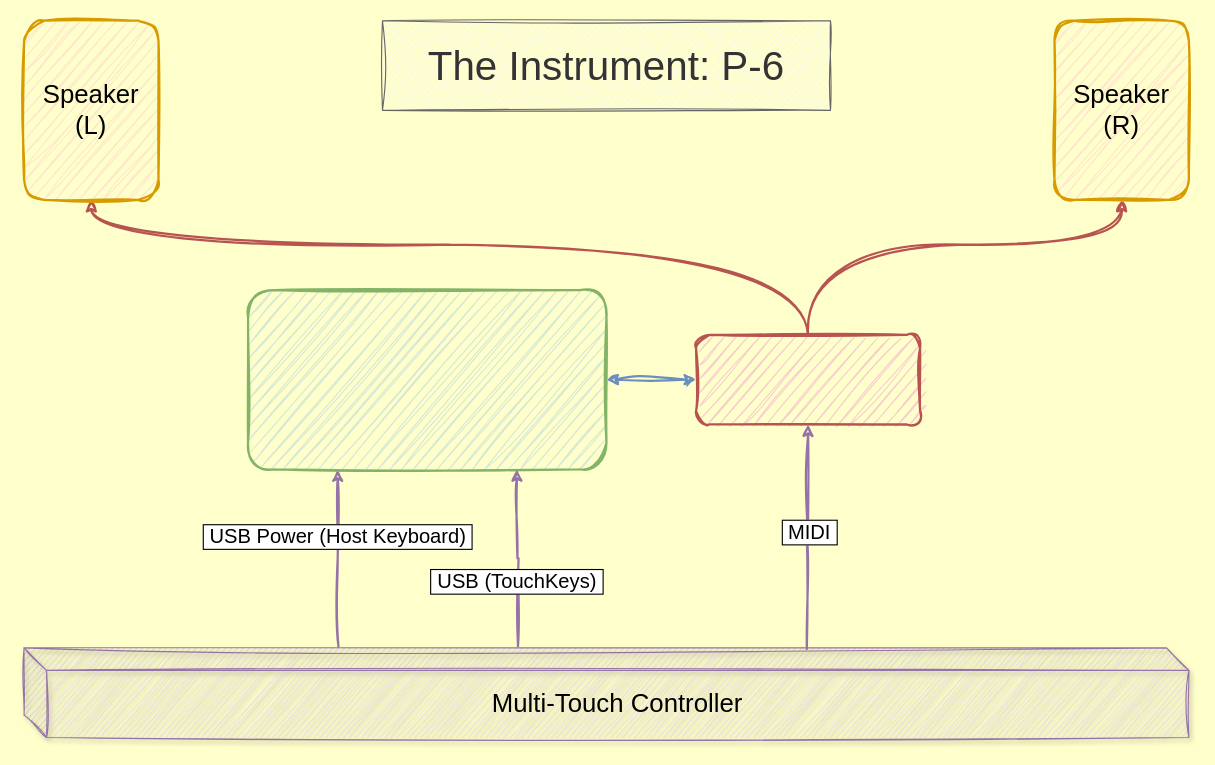
This 1215x765 diagram has some shape labels left out. The shapes that lost their labels are listed below. From the top down, each one's centre as x and y in pixels, then its label:
point 426,379: Computer (Synthesizer)
point 807,379: Sound Card
